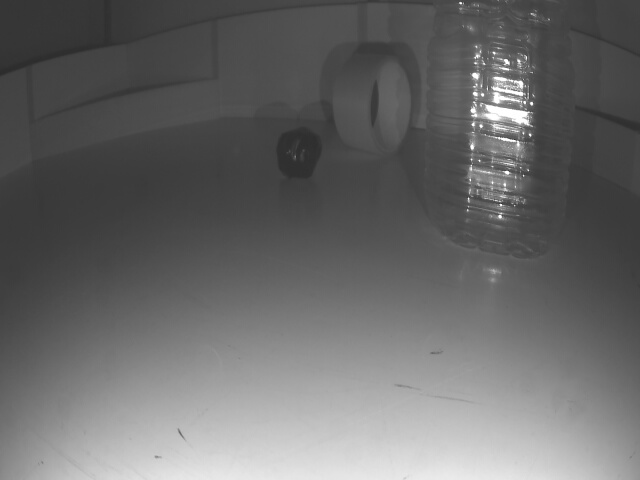Live: (278, 126, 323, 179)
Point: (33, 78, 217, 161), (575, 103, 640, 194)
